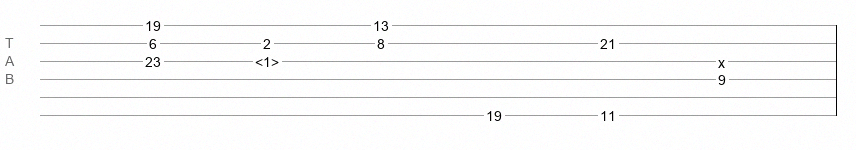11: (600, 108, 616, 118)
13: (373, 18, 389, 28)
19: (145, 18, 161, 28), (486, 108, 502, 118)
2: (263, 36, 271, 46)
21: (600, 36, 616, 46)
23: (145, 54, 161, 64)
6: (149, 36, 157, 46)
8: (377, 36, 385, 46)
9: (718, 72, 726, 82)
harmonic: (255, 54, 279, 64)
x: (718, 55, 725, 63)
